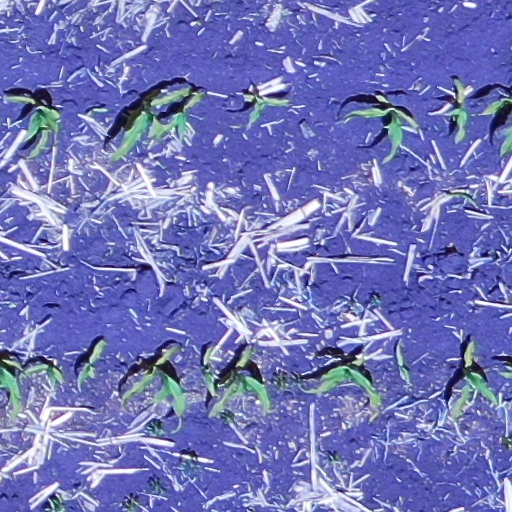planta: (109, 89, 191, 159), (348, 94, 417, 164), (122, 348, 187, 413), (451, 341, 501, 422), (211, 349, 271, 416), (310, 354, 382, 408), (6, 96, 59, 157), (154, 91, 202, 139), (246, 90, 286, 120), (78, 340, 105, 383), (450, 82, 467, 140), (20, 363, 62, 386), (203, 348, 217, 395)
